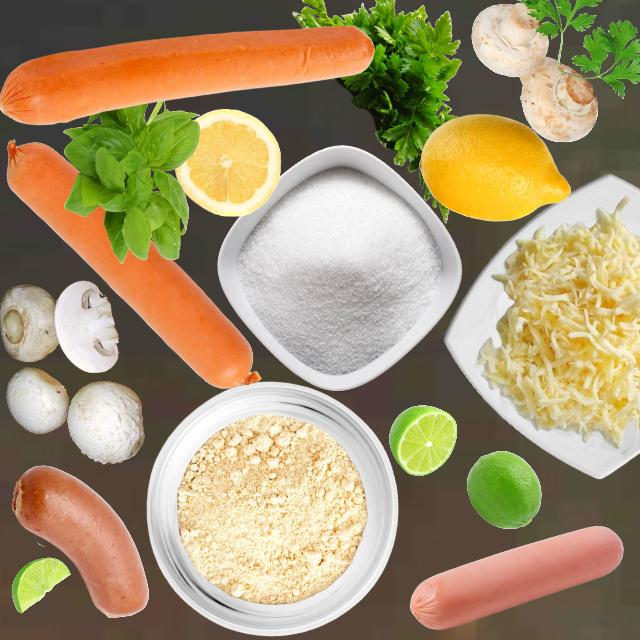Flour: (176, 412, 367, 604)
Sugar: (237, 165, 442, 375)
